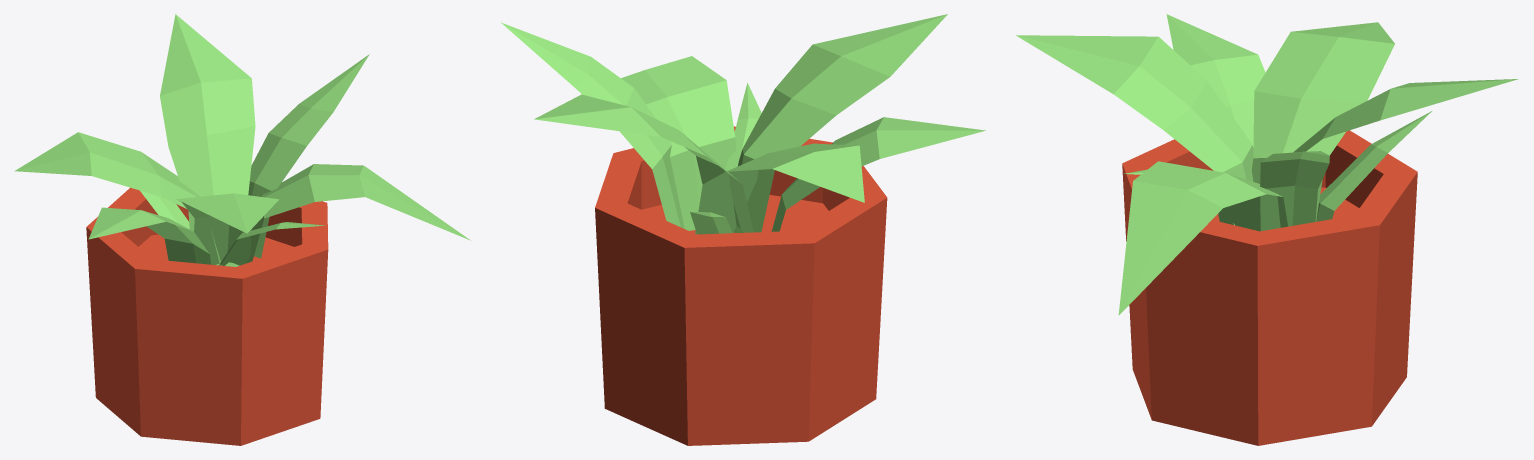
The model's file is plant.fbx.
3 renders of one model, left to right at view 1: azimuth 30°, elevation 25°; view 2: azimuth 150°, elevation 25°; view 3: azimuth 270°, elevation 25°, orthographic. The views are drawn at different scales.
Parts seen in each view (by area): view 1: Cylinder.001; view 2: Cylinder.001; view 3: Cylinder.001.
Part boxes in pixels (x1,y1,x2,y2): Cylinder.001: (14, 14, 470, 445); Cylinder.001: (501, 14, 985, 445); Cylinder.001: (1016, 14, 1518, 445).
Size of the model in its own units: 62.15 by 47.41 by 62.49.
